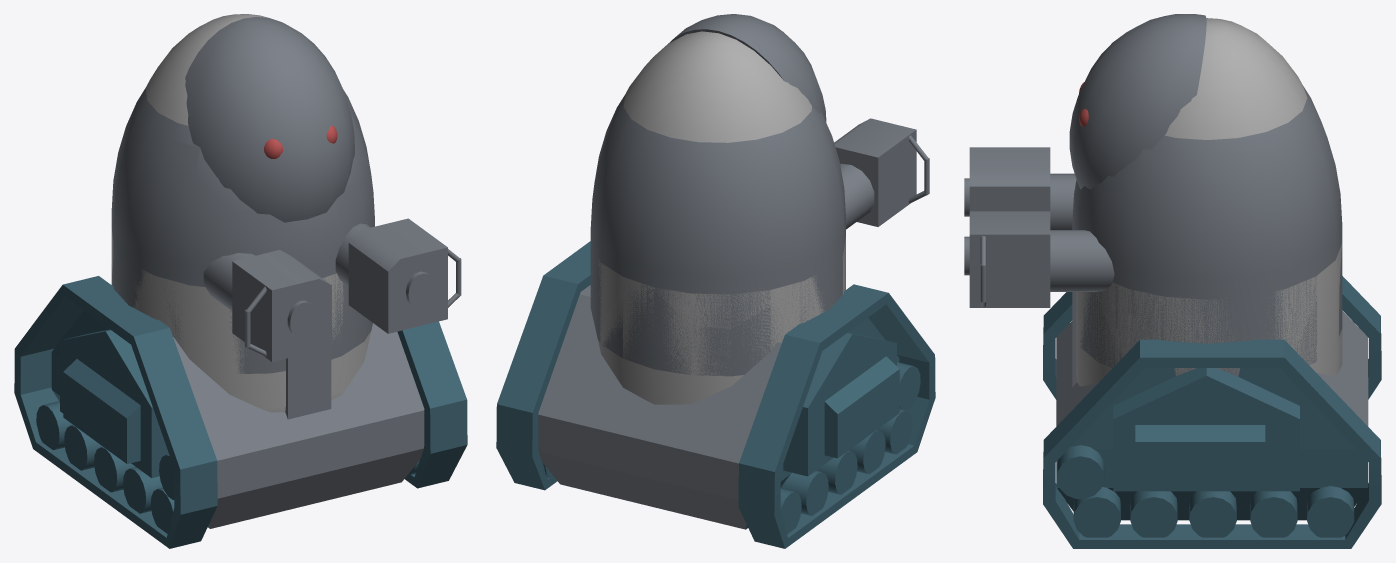
Rendered from teki 1.fbx.
The picture shows the model from 3 angles, left to right: view 1: azimuth 30°, elevation 25°; view 2: azimuth 150°, elevation 25°; view 3: azimuth 270°, elevation 25°; orthographic projection. The views are drawn at different scales.
Parts seen in each view (by area): view 1: pCylinder23, polySurface2, pSphere6, pCube12, pSphere7, pCylinder21, pCylinder22; view 2: pCylinder23, polySurface2, pSphere7, pCube12, pSphere6, pCylinder21; view 3: pCylinder23, polySurface2, pSphere7, pSphere6, pCube12, pCylinder22, pCylinder21.
Part boxes in pixels (bbox=[...]): pCylinder23: bbox=[14, 276, 467, 548]; polySurface2: bbox=[111, 88, 374, 373]; pSphere6: bbox=[185, 17, 354, 222]; pCube12: bbox=[232, 218, 461, 361]; pSphere7: bbox=[111, 14, 371, 412]; pCylinder21: bbox=[203, 253, 255, 310]; pCylinder22: bbox=[335, 223, 370, 285]; pCylinder23: bbox=[496, 241, 935, 548]; polySurface2: bbox=[590, 95, 845, 376]; pSphere7: bbox=[598, 31, 845, 404]; pCube12: bbox=[834, 118, 929, 226]; pSphere6: bbox=[668, 14, 826, 122]; pCylinder21: bbox=[840, 163, 874, 229]; pCylinder23: bbox=[1043, 276, 1381, 548]; polySurface2: bbox=[1072, 86, 1342, 376]; pSphere7: bbox=[1076, 18, 1342, 386]; pSphere6: bbox=[1069, 14, 1206, 189]; pCube12: bbox=[964, 147, 1050, 307]; pCylinder22: bbox=[1050, 230, 1114, 291]; pCylinder21: bbox=[1050, 173, 1076, 229].
Size of the model in its own units: 3.84 by 5.45 by 4.49.
